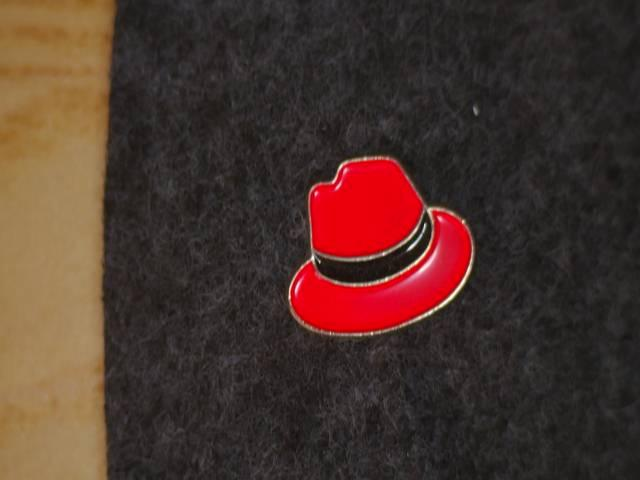Red-Hat: (273, 140, 492, 377)
